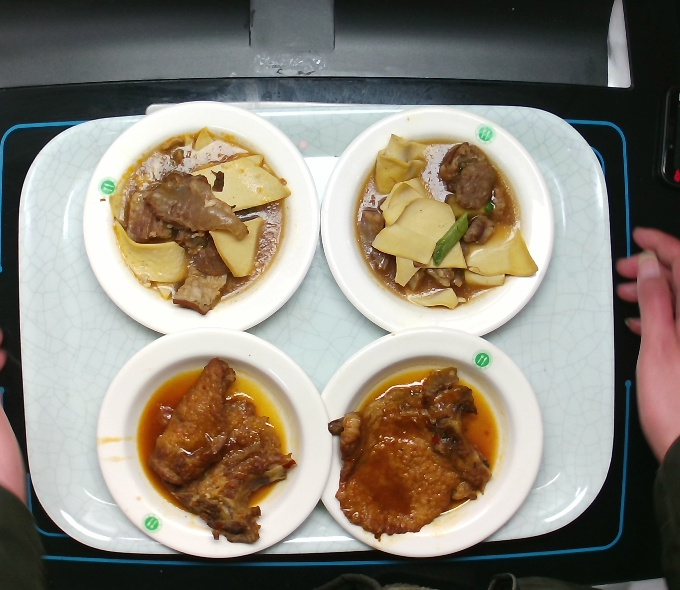wcq-DaPai: (156, 350, 310, 550), (329, 367, 496, 535)
wcq-QianZhangNiuRou: (100, 126, 287, 307), (343, 134, 530, 315)
